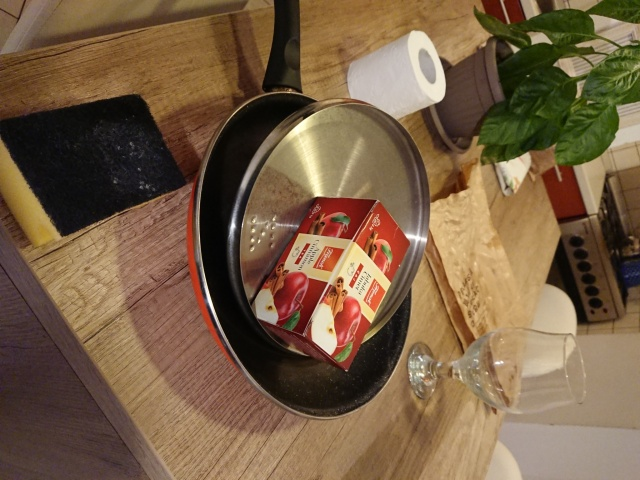Franck Apple Cinnamon Tea 60g: (243, 194, 413, 375)
